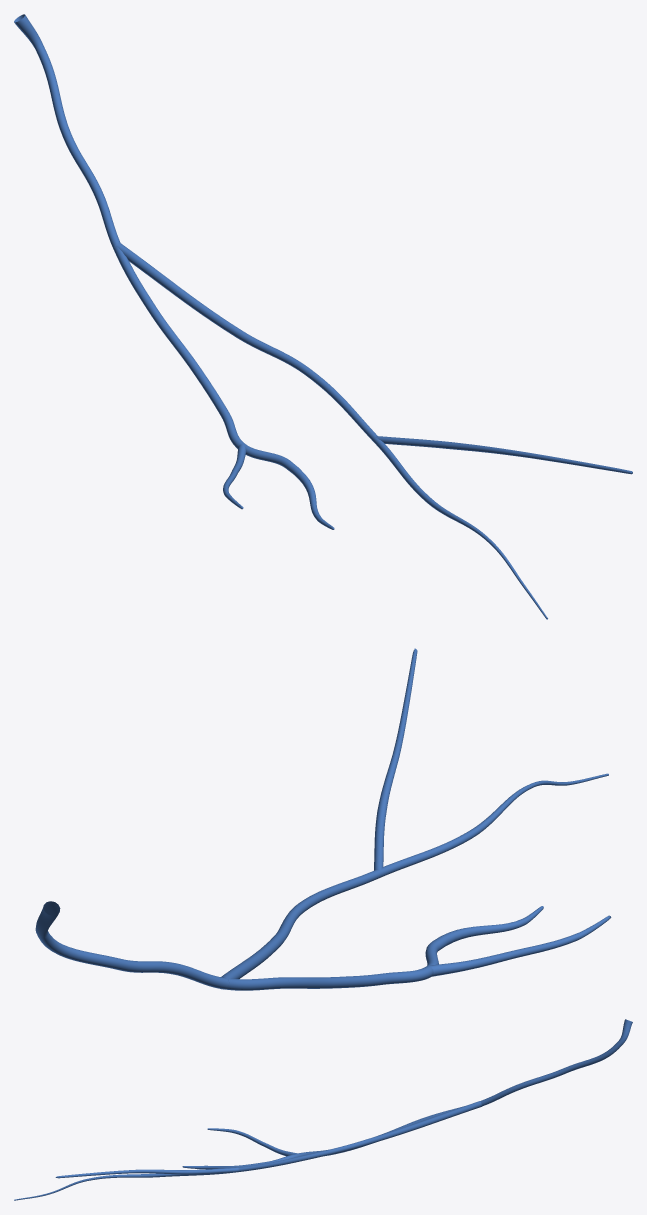
The picture shows the model from 3 angles, top to bottom: view 1: azimuth 30°, elevation 25°; view 2: azimuth 150°, elevation 25°; view 3: azimuth 270°, elevation 25°; orthographic projection. The views are drawn at different scales.
Parts seen in each view (by area): view 1: 左侧腹壁浅静脉; view 2: 左侧腹壁浅静脉; view 3: 左侧腹壁浅静脉.
Part boxes in pixels (box(x1,y1,x2,y2)): 左侧腹壁浅静脉: box(14, 14, 632, 619); 左侧腹壁浅静脉: box(35, 648, 611, 990); 左侧腹壁浅静脉: box(14, 1019, 632, 1200).
Bounding box in the file's own units: 0.1021 × 0.0942 × 0.3147.
